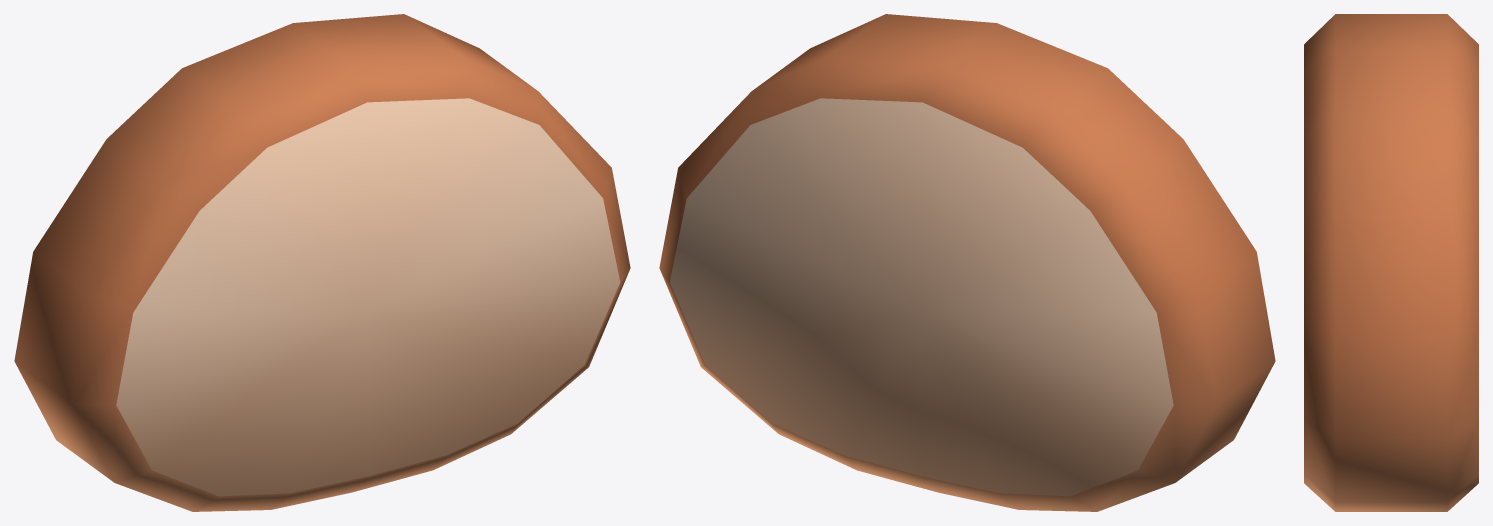
File: baguette_slice.glb
The picture shows the model from 3 angles, left to right: view 1: azimuth 30°, elevation 25°; view 2: azimuth 150°, elevation 25°; view 3: azimuth 270°, elevation 25°; orthographic projection. The views are drawn at different scales.
Parts seen in each view (by area): view 1: baguette_slice; view 2: baguette_slice; view 3: baguette_slice.
Boxes of the visible parts, box(x1,y1,x2,y2) form: baguette_slice: box(14, 14, 630, 511); baguette_slice: box(659, 14, 1275, 511); baguette_slice: box(1304, 14, 1478, 511).
Bounding box in the file's own units: 0.3706 × 0.271 × 0.1054.
Materials: 1 (1 with a texture image).
